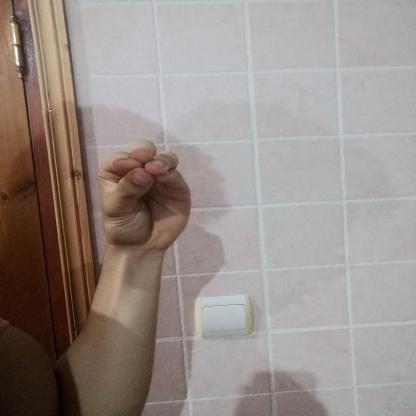HA: (81, 128, 205, 261)
